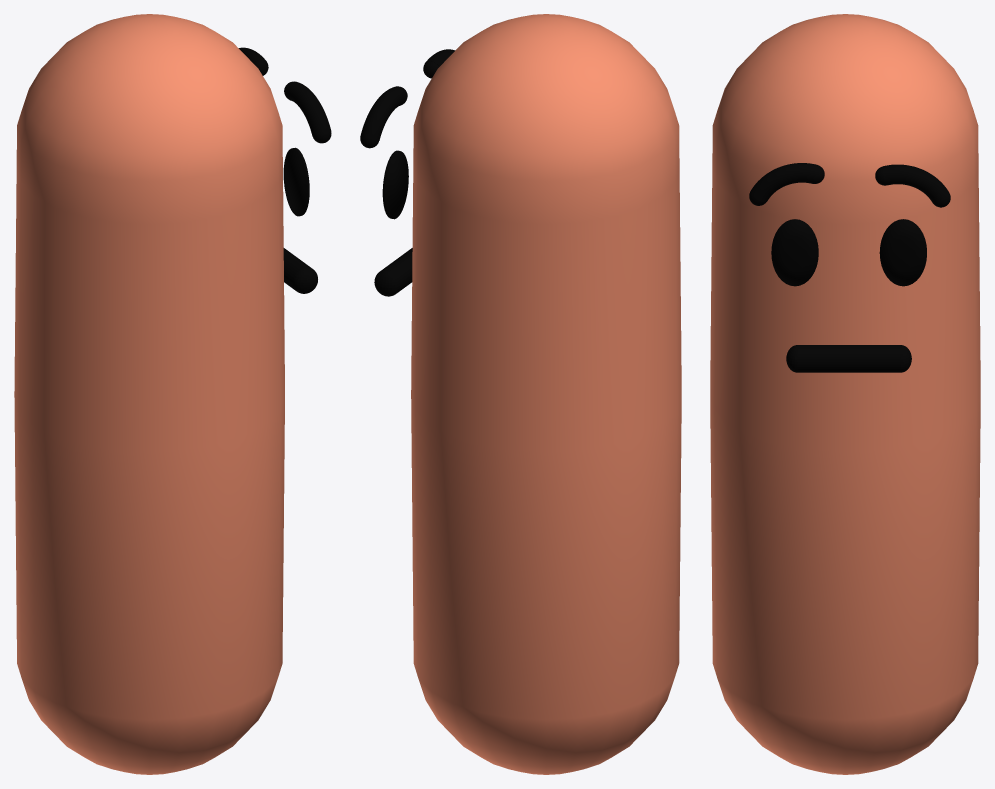
The model's file is sosiska.glb.
3 renders of one model, left to right at view 1: azimuth 30°, elevation 25°; view 2: azimuth 150°, elevation 25°; view 3: azimuth 270°, elevation 25°, orthographic.
Parts seen in each view (by area): view 1: Sphere.005; view 2: Sphere.005; view 3: Sphere.005.
Part boxes in pixels (x1,y1,x2,y2): Sphere.005: (14, 14, 331, 774); Sphere.005: (360, 14, 681, 774); Sphere.005: (710, 14, 980, 774).
Size of the model in its own units: 0.7114 by 1.92 by 0.6403.
